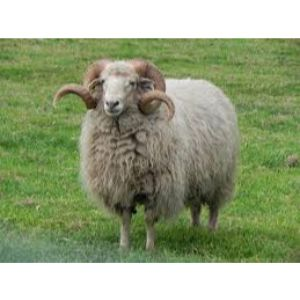sheep: (51, 56, 242, 252)
